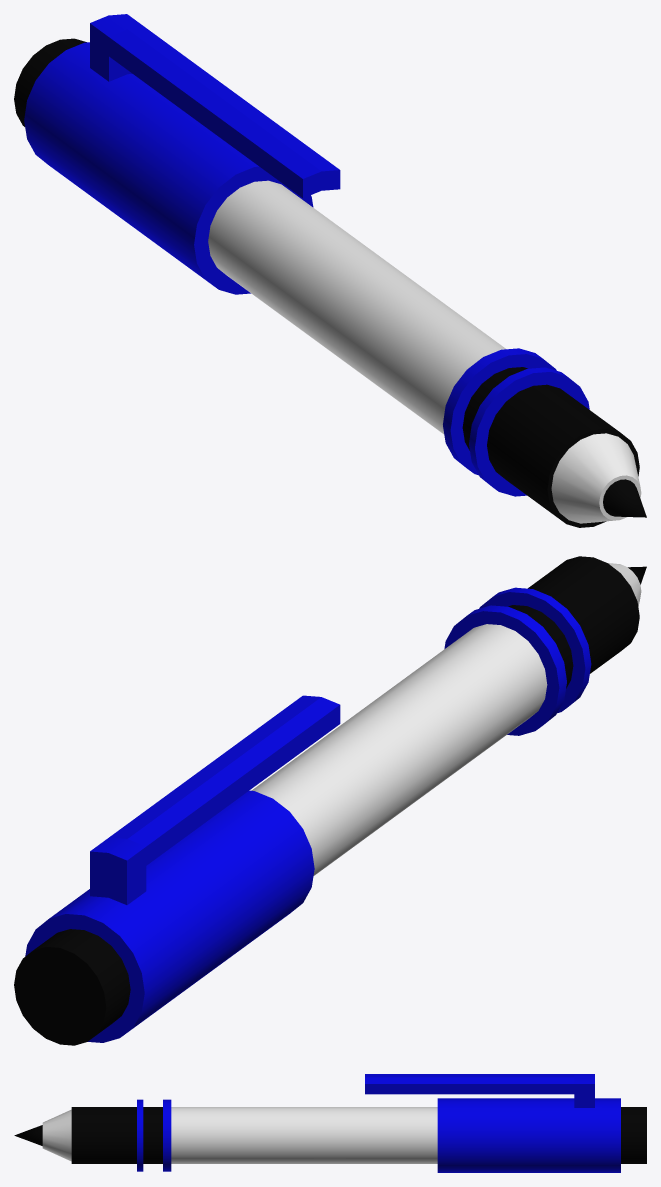
Rendered from Pen.fbx.
3 views of the same model, one above another, from view 1: azimuth 30°, elevation 25°; view 2: azimuth 150°, elevation 25°; view 3: azimuth 270°, elevation 25° (orthographic). The views are drawn at different scales.
Visible parts, largest first — view 1: Pen; view 2: Pen; view 3: Pen.
Boxes of the visible parts, x1=… form: Pen: x1=14, y1=14, x2=646, y2=527; Pen: x1=14, y1=556, x2=646, y2=1045; Pen: x1=14, y1=1074, x2=646, y2=1172.
Bounding box in the file's own units: 0.0261 × 0.0354 × 0.22.
